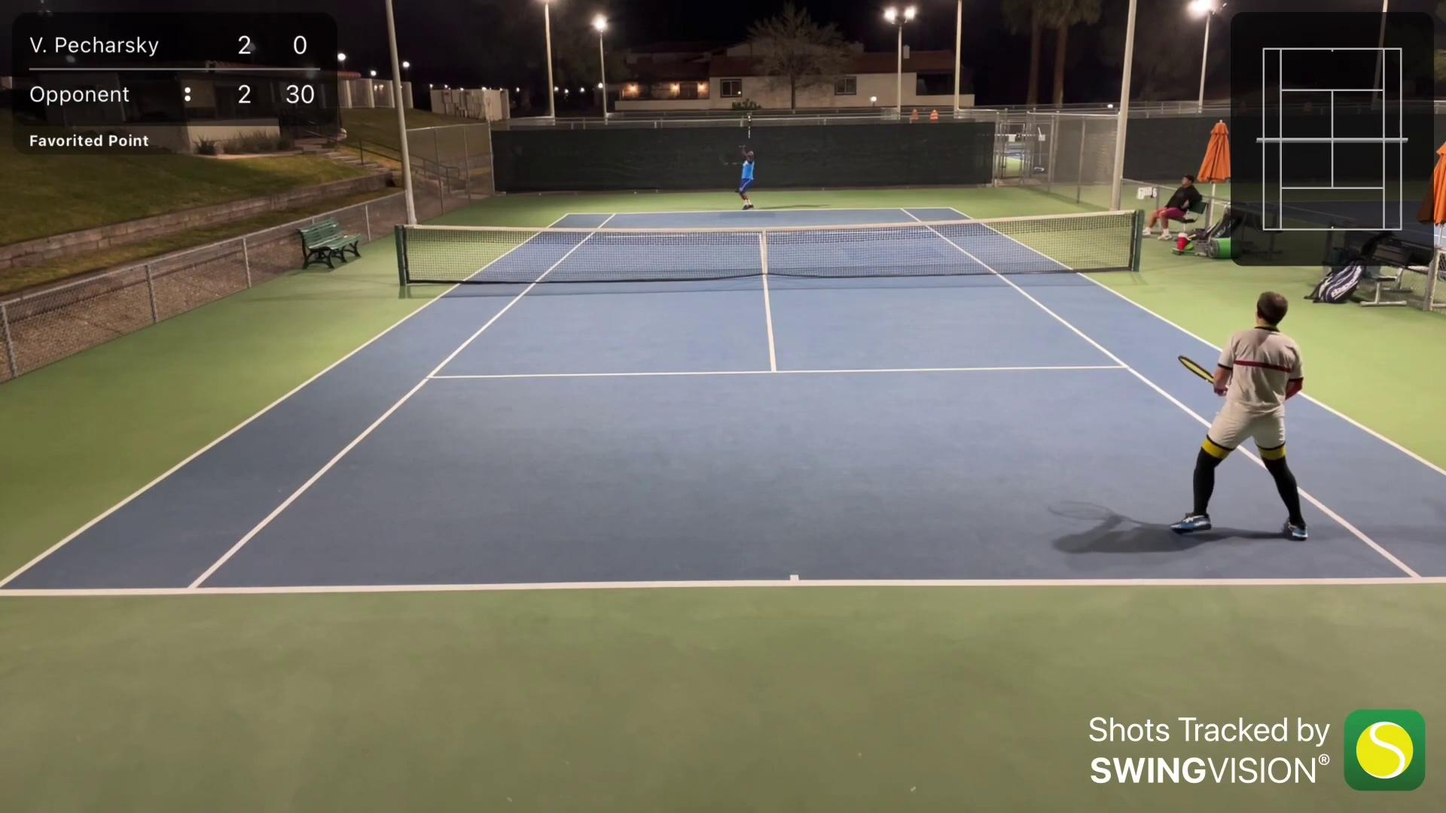ball: (736, 89, 743, 96)
